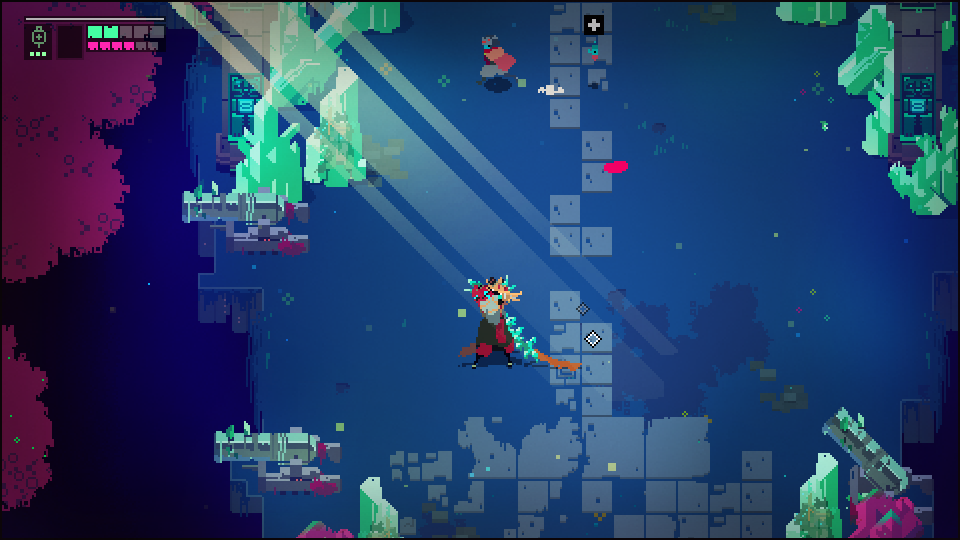hanged_man: (457, 268, 543, 384)
player: (476, 31, 516, 87)
